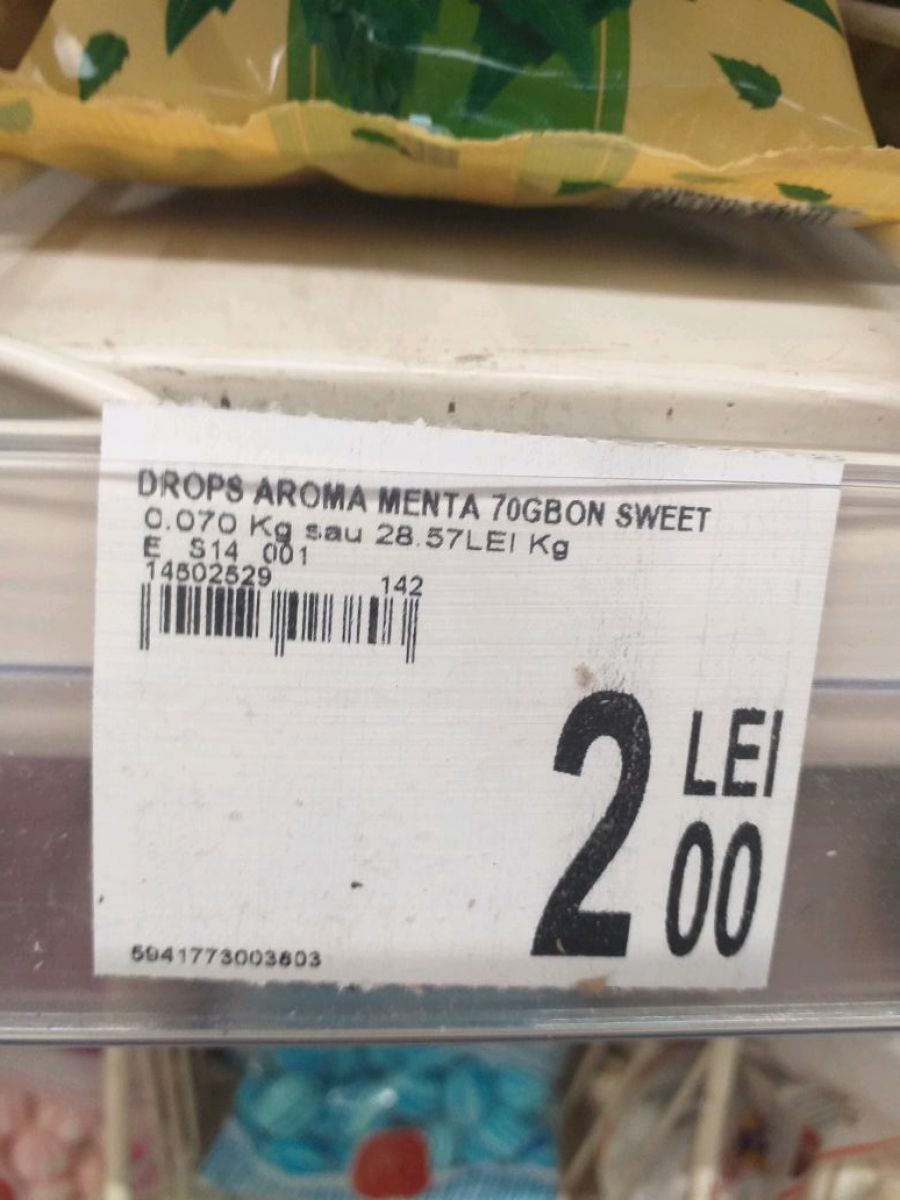bardcode: (123, 934, 328, 980)
list: (89, 394, 862, 994)
name: (137, 461, 717, 537)
price: (531, 685, 780, 962)
